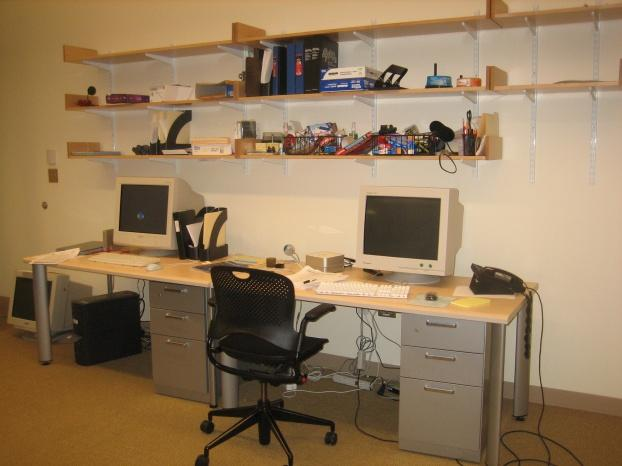Filing Cabinet: (398, 311, 490, 460), (147, 278, 212, 403)
Kursi: (197, 268, 338, 465)
Meja: (292, 257, 539, 464), (21, 239, 273, 364)
